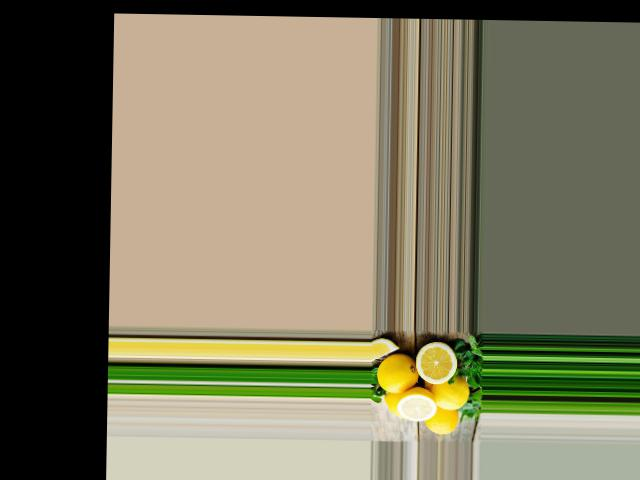lemon: (382, 389, 406, 417)
